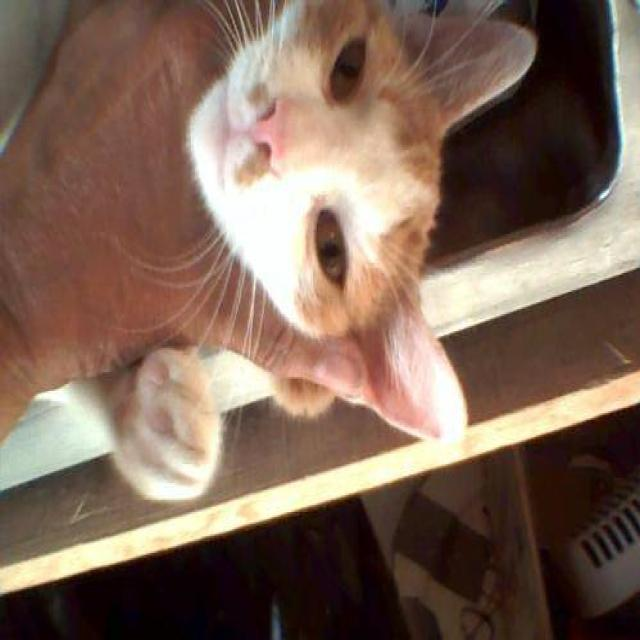cat: (0, 0, 538, 503)
